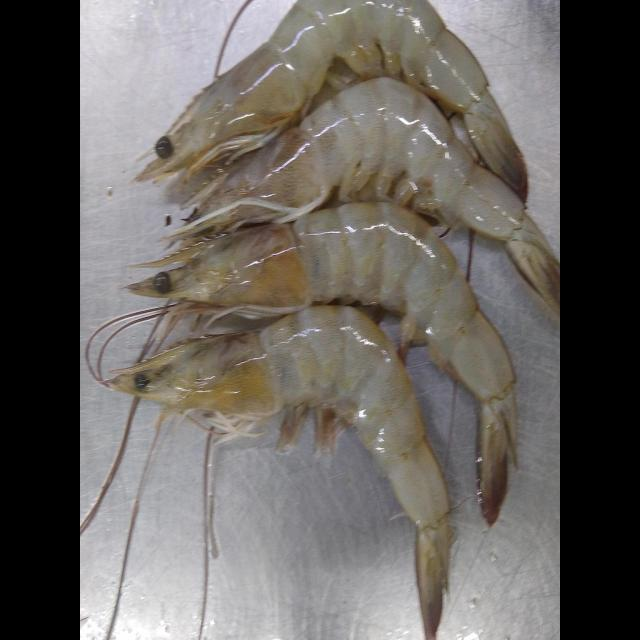shrimp: (126, 201, 518, 525), (105, 305, 451, 640), (171, 76, 560, 311), (136, 0, 529, 202)
